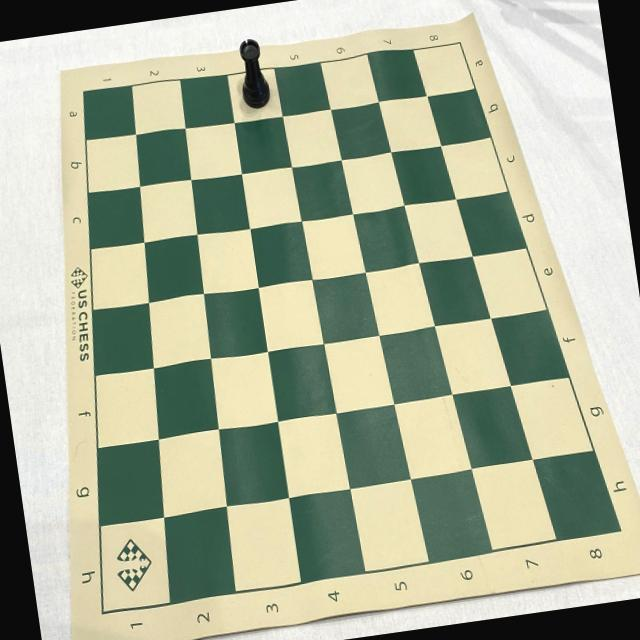black-rook: (235, 36, 272, 110)
